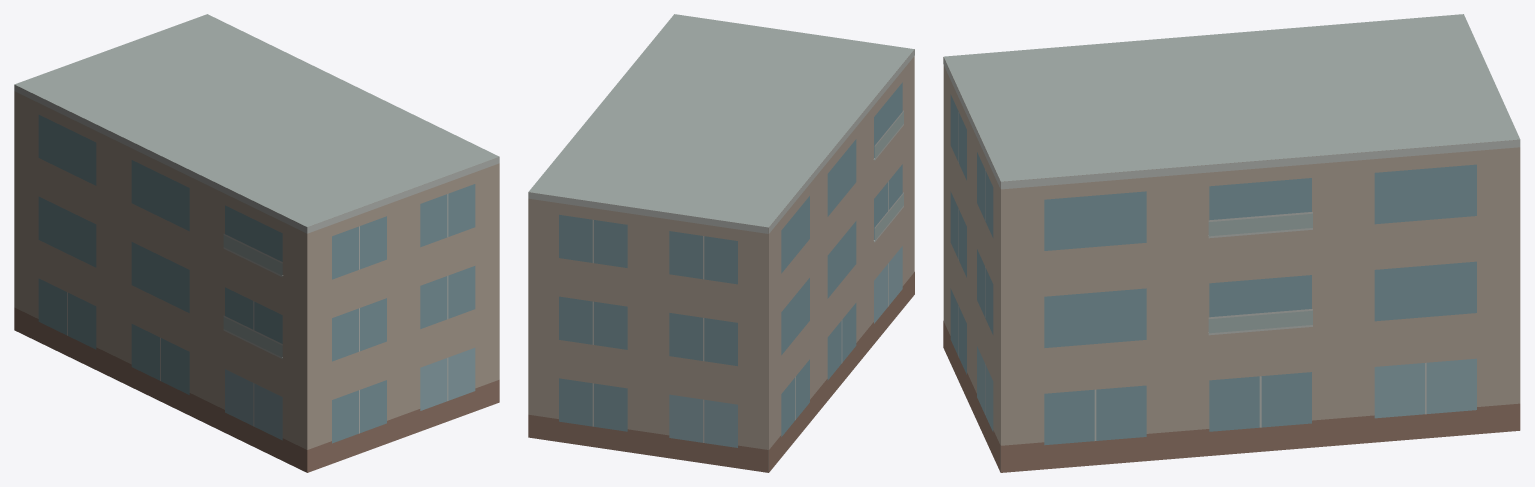
The model's file is survey-upis-32707328.glb.
3 renders of one model, left to right at view 1: azimuth 30°, elevation 25°; view 2: azimuth 150°, elevation 25°; view 3: azimuth 270°, elevation 25°, orthographic. The views are drawn at different scales.
Parts seen in each view (by area): view 1: survey-upis-32707328.tmp; view 2: survey-upis-32707328.tmp; view 3: survey-upis-32707328.tmp.
Part boxes in pixels (x1,y1,x2,y2): survey-upis-32707328.tmp: [14, 14, 499, 472]; survey-upis-32707328.tmp: [528, 14, 914, 472]; survey-upis-32707328.tmp: [943, 14, 1520, 472].
Bounding box in the file's own units: 11.31 × 9.15 × 16.44.
